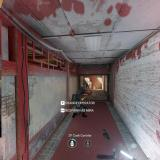Character: (71, 90, 88, 118)
Head: (76, 90, 81, 94)
